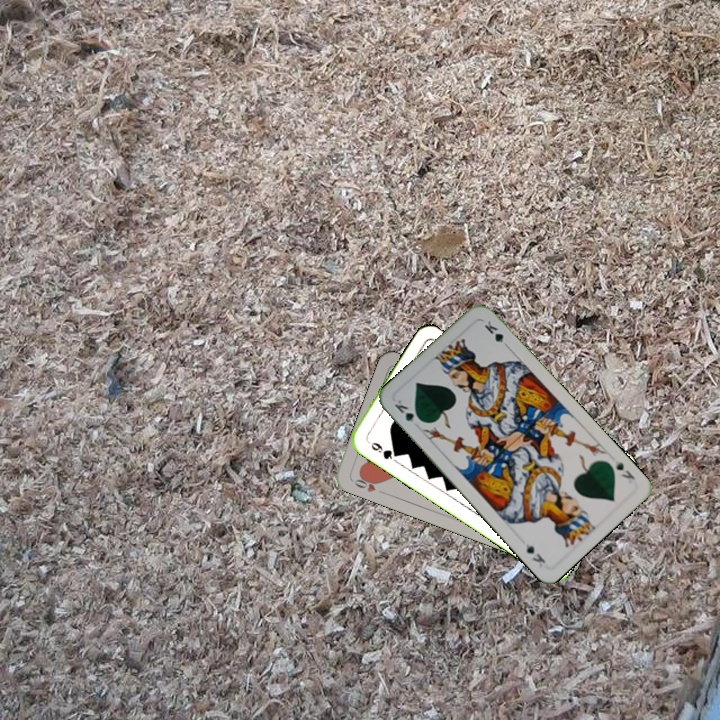G9: (367, 438, 401, 462)
GK: (390, 396, 425, 426), (610, 456, 638, 482)
HO: (350, 471, 383, 495)
